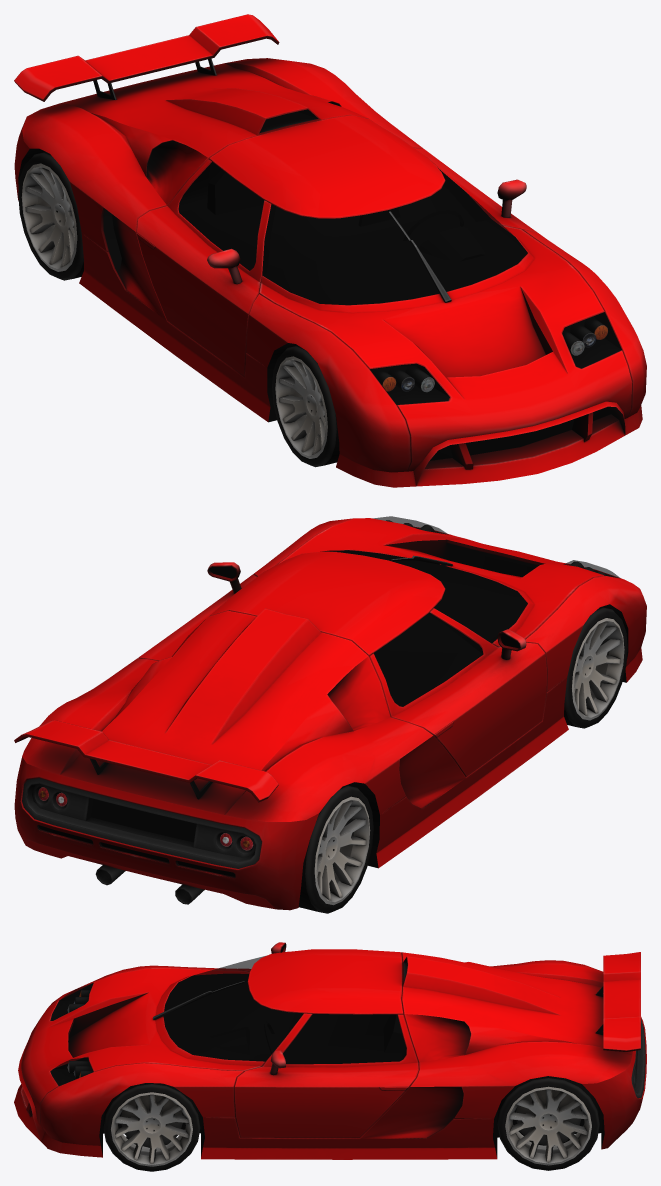
The model's file is Pack_Sport.gltf.
The picture shows the model from 3 angles, top to bottom: view 1: azimuth 30°, elevation 25°; view 2: azimuth 150°, elevation 25°; view 3: azimuth 270°, elevation 25°; orthographic projection. The views are drawn at different scales.
Visible parts, largest first — view 1: Sport body, Wheel_H003, Wheel_H002; view 2: Sport body, Wheel_H003, Wheel_H002; view 3: Sport body, Wheel_H001, Wheel_H.
Boxes of the visible parts, x1,y1,x2,y2 form: Sport body: (14, 14, 646, 487); Wheel_H003: (18, 151, 83, 280); Wheel_H002: (272, 345, 339, 467); Sport body: (14, 516, 646, 910); Wheel_H003: (298, 785, 373, 913); Wheel_H002: (564, 606, 627, 728); Sport body: (14, 942, 646, 1159); Wheel_H001: (497, 1076, 599, 1170); Wheel_H: (103, 1083, 200, 1171).
Bounding box in the file's own units: 1.77 × 1.04 × 3.91.
4 materials, 3 textured.
